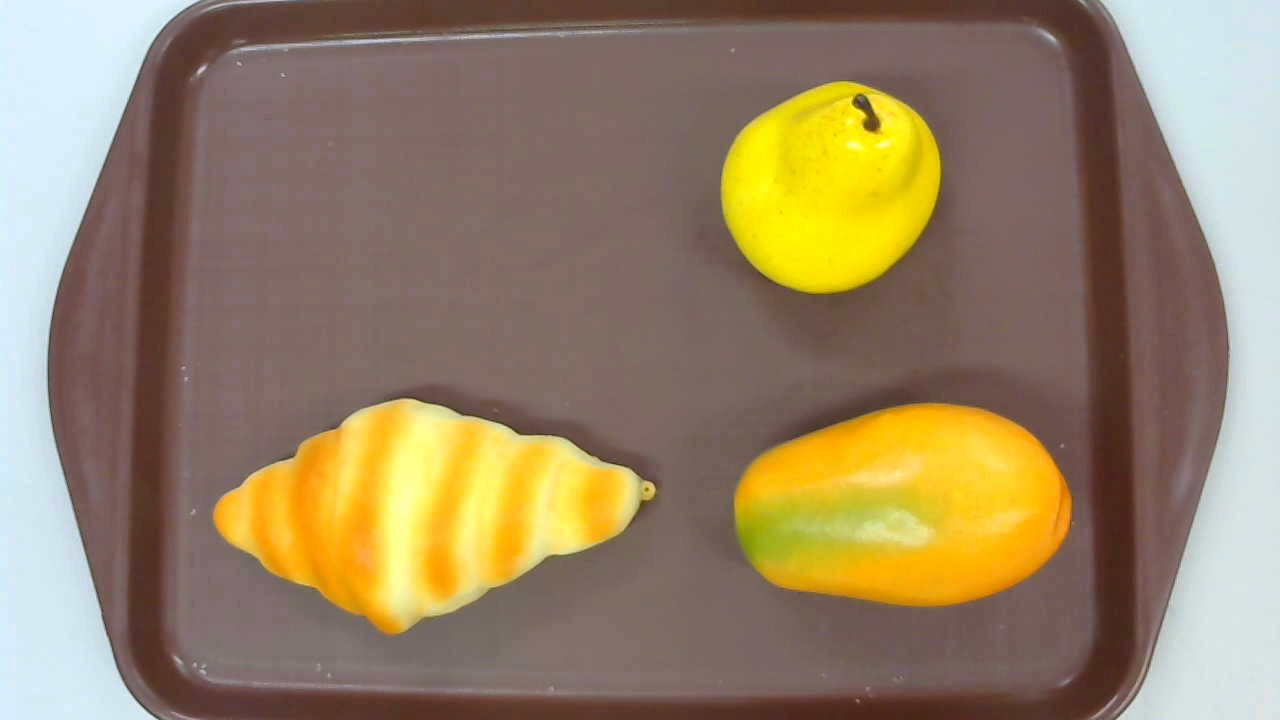croissant: (213, 397, 655, 636)
papya: (734, 402, 1072, 608)
yellow pear: (719, 82, 939, 295)
